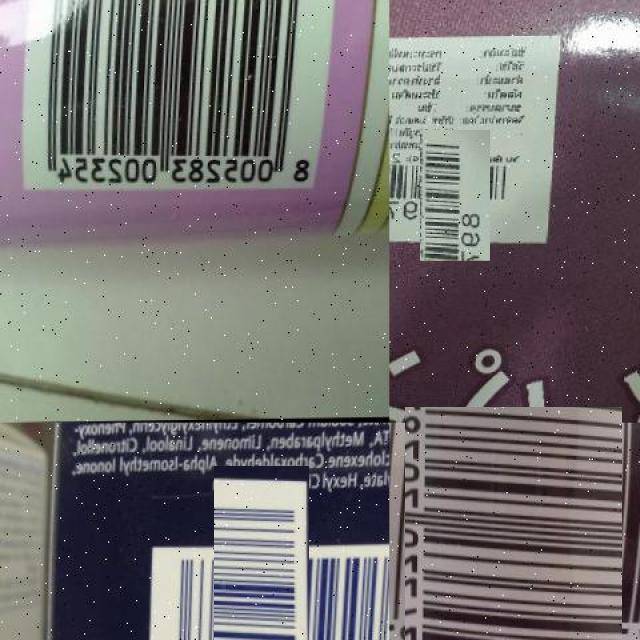Barcode: (16, 0, 329, 195), (397, 415, 630, 640), (174, 506, 349, 640), (404, 145, 505, 246)
